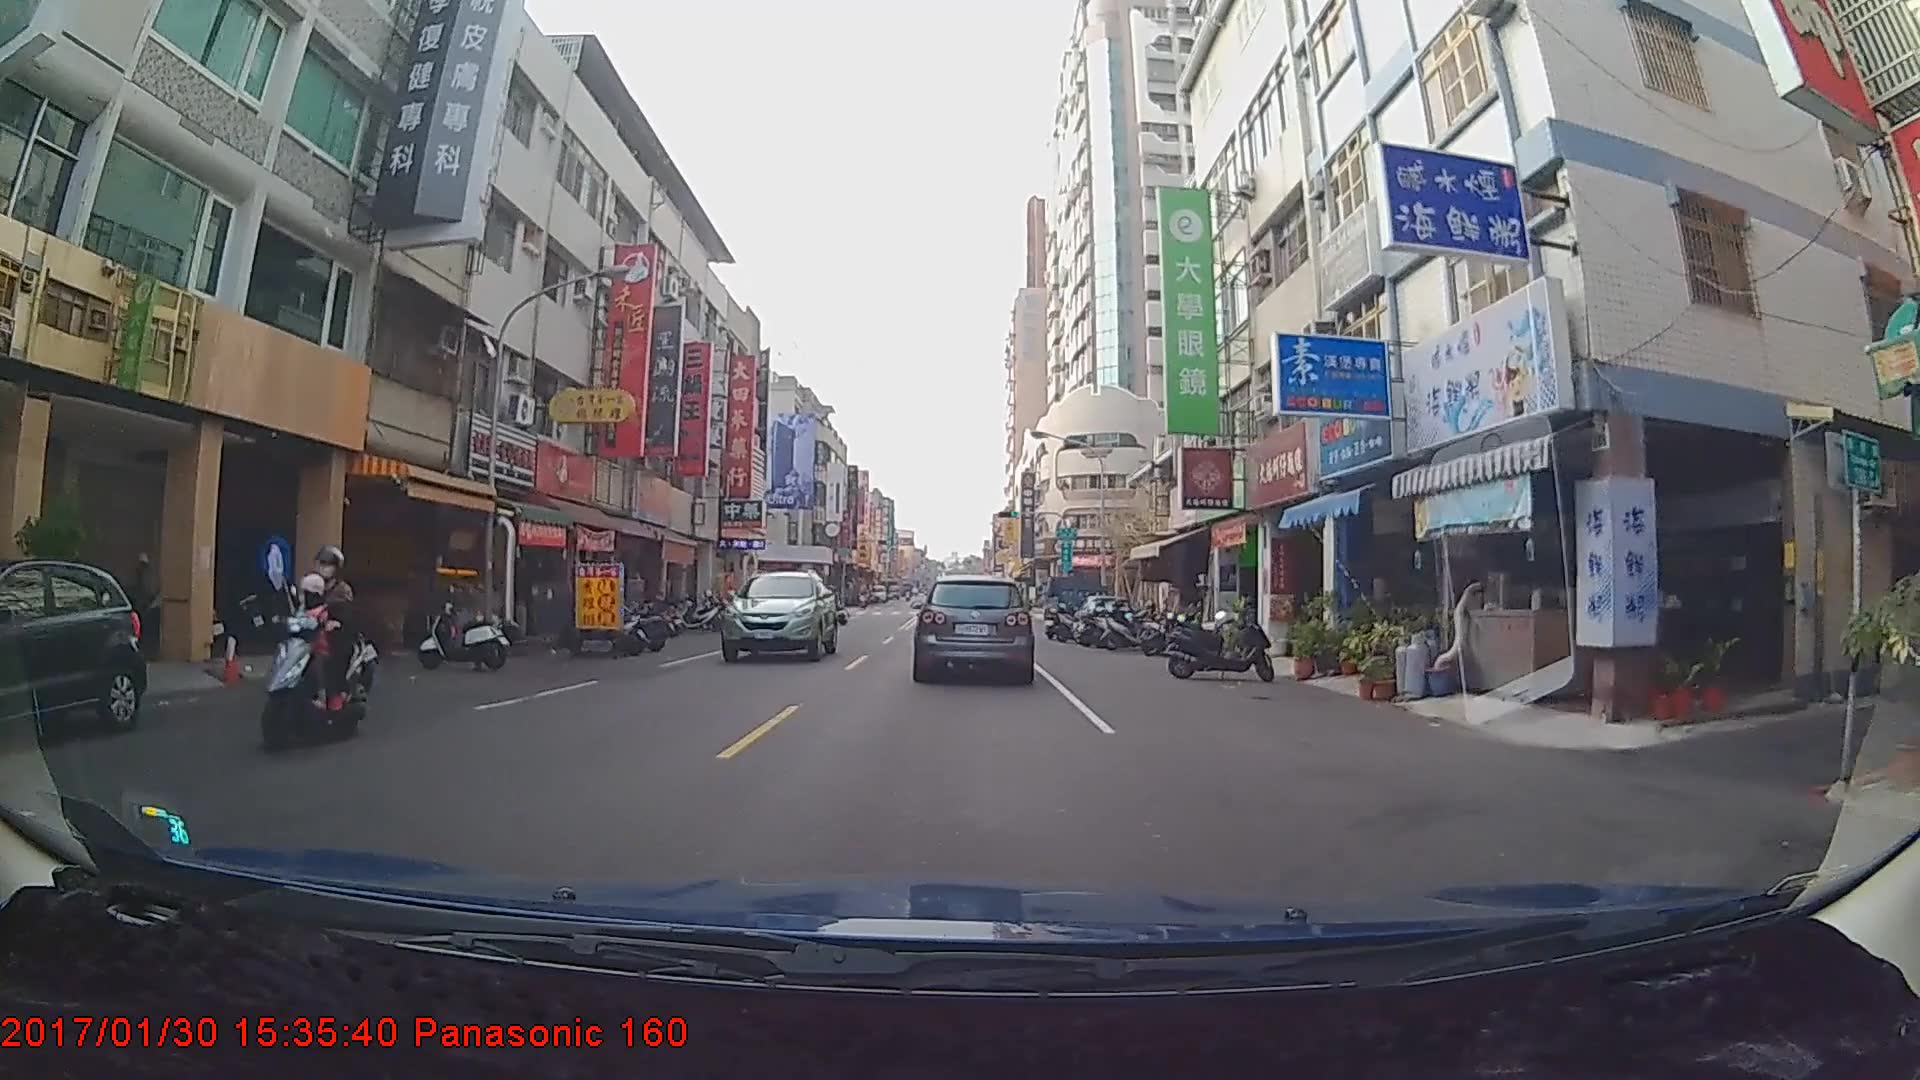rider: (254, 543, 366, 753)
vehicle: (915, 571, 1033, 682), (717, 567, 838, 663), (1045, 572, 1113, 633)
